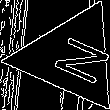N_NW: (36, 28, 105, 86)
